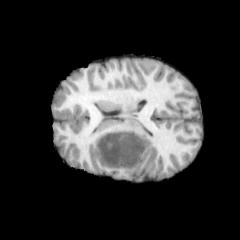glioma: (94, 130, 151, 169)
